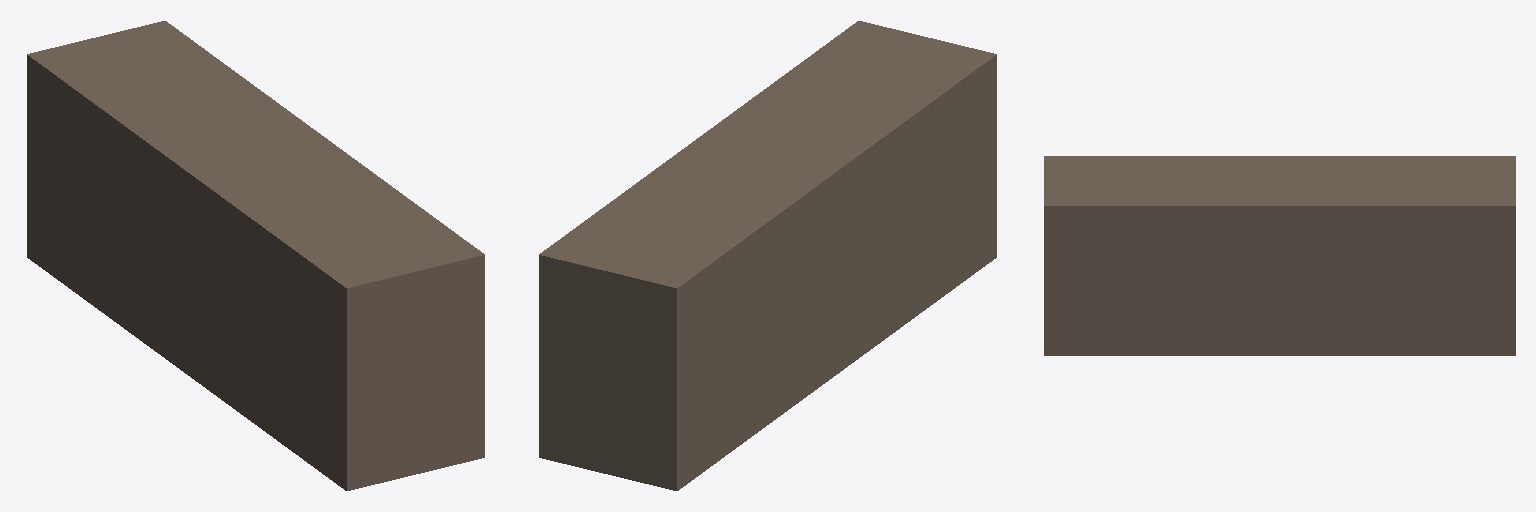
The robot description file, URDF, robot "brick":
<?xml version="1.0" ?>
<robot name="brick">
  <link name="brick_base_link">
    <contact>
      <restitution value="0.1"/>
      <lateral_friction value="0.5"/>
      <contact_cfm value="0.0"/>
      <contact_erp value="1.0"/>
    </contact>
    <inertial>
      <origin rpy="0 0 0" xyz="0 0 0"/>
       <mass value="0.0"/>
       <inertia ixx="0" ixy="0" ixz="0" iyy="0" iyz="0" izz="0"/>
    </inertial>
    <visual>
      <origin rpy="0 0 0" xyz="0 0 0"/>
      <geometry>
		<box size="0.05 0.20 0.07"/>
      </geometry>
       <material name="brick">
        <color rgba="0.50 0.45 0.40 1"/>
      </material>
    </visual>
    <collision>
      <origin rpy="0 0 0" xyz="0 0 0"/>
      <geometry>
	 	<box size="0.05 0.20 0.07"/>
      </geometry>
    </collision>
  </link>
</robot>

--- Facts derived from the render (not from the file) ---
Views: 3 orthographic renders of the robot side by side, from view 1: azimuth 30°, elevation 25°; view 2: azimuth 150°, elevation 25°; view 3: azimuth 270°, elevation 25°.
Model brick with 1 links and 0 joints (none), rooted at brick_base_link, posed all joints at 0.
Links seen in each view (by area): view 1: brick_base_link; view 2: brick_base_link; view 3: brick_base_link.
Boxes of the visible links, <box> form: brick_base_link: <box>27,21,484,490</box>; brick_base_link: <box>539,21,996,490</box>; brick_base_link: <box>1044,156,1515,355</box>.
Bounding box of the posed robot: 0.05 × 0.2 × 0.07 m (x, y, z).
Geometry: primitives only (box / cylinder / sphere), no mesh files.